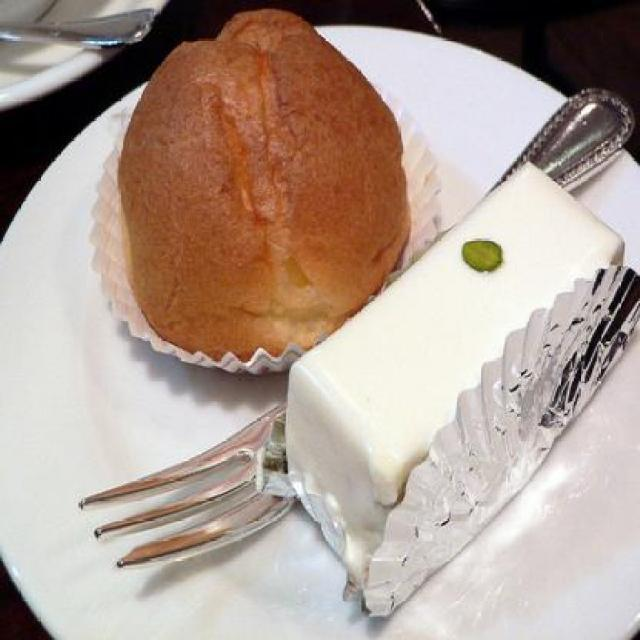Rare cheese cake: (274, 156, 632, 627)
